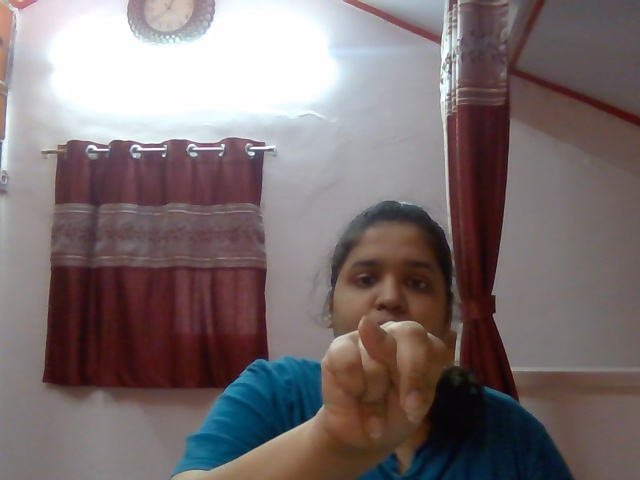n: (306, 309, 468, 458)
